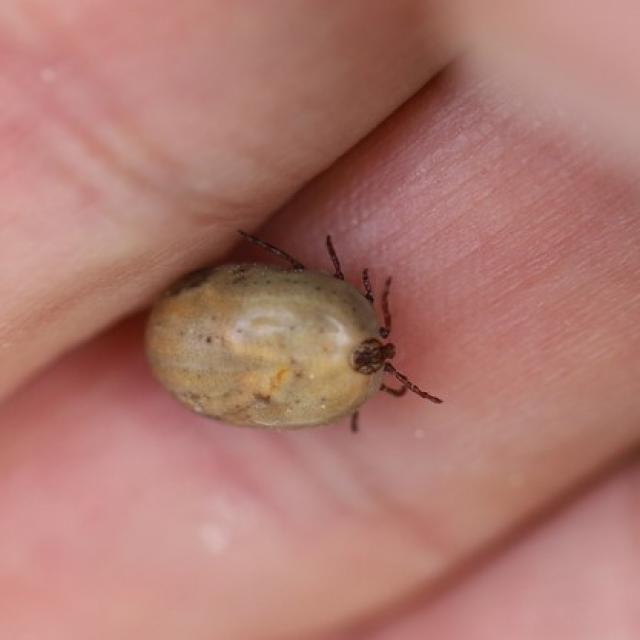Dermacentor Reticulatus-F-Fed: (143, 231, 444, 432)
